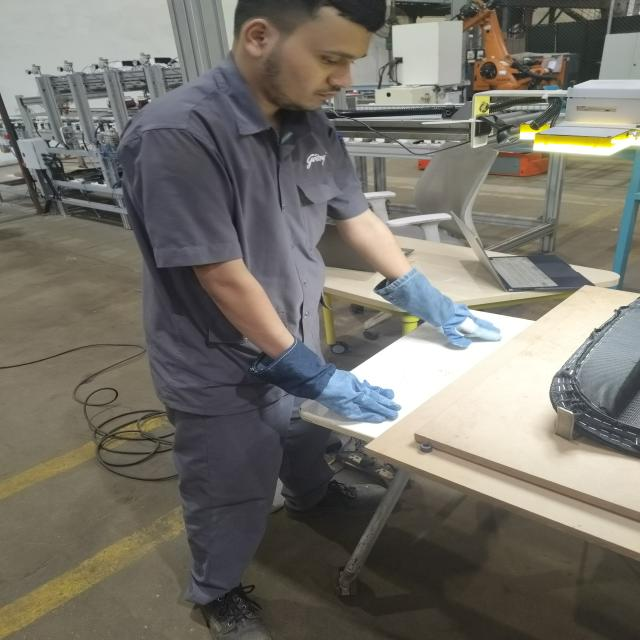Gloves-Detection: (368, 272, 502, 348), (276, 351, 394, 422)
